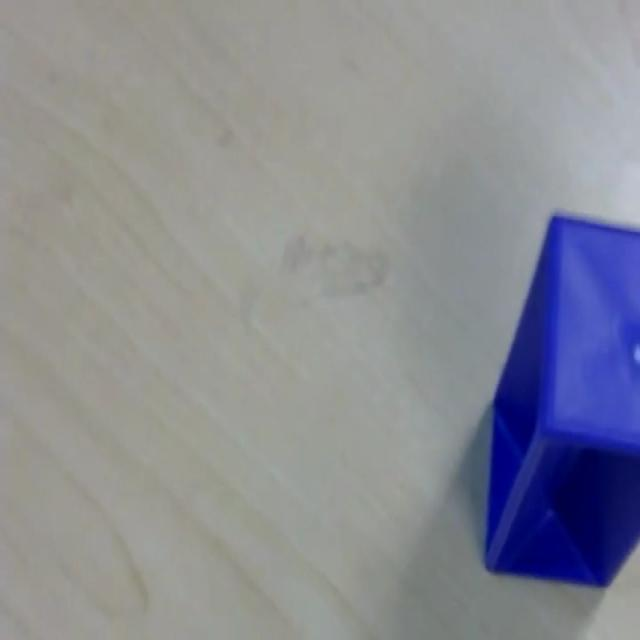blue_block: (482, 209, 638, 588)
